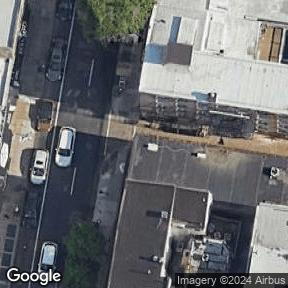vegetation: (80, 0, 155, 39), (65, 222, 100, 288)
